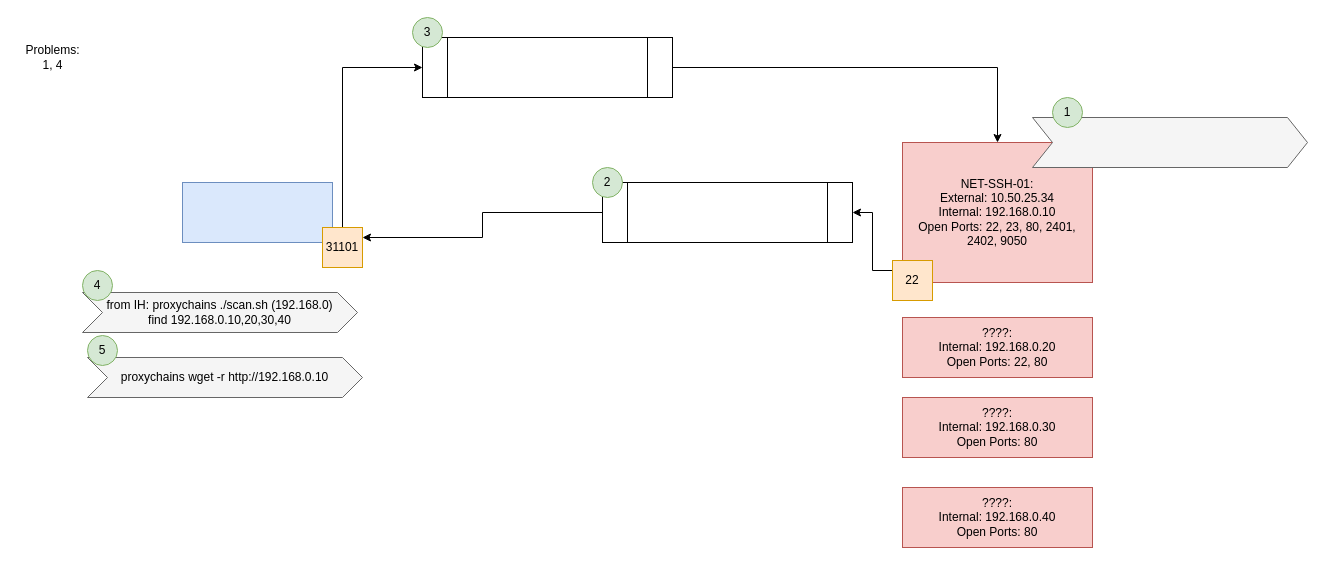
Image size: 1325x565. Some labels were removed from this diagram. Here are the shapes that lost their labels. From the top down, the box of each, then its label:
(422, 36, 672, 98): ssh net3_student11@localhost -p 31101 -D 9050 -NT
(1032, 116, 1308, 168): telnet into NET-SSH-01 ifconfig (private IP) netstat -plnt (what's open)
(182, 182, 332, 242): Internet Host External IP: 10.50.21.246 Internal IP: 10.10.0.40
(602, 182, 852, 242): ssh student@10.50.21.246 -R 31101:localhost:22 -NT
